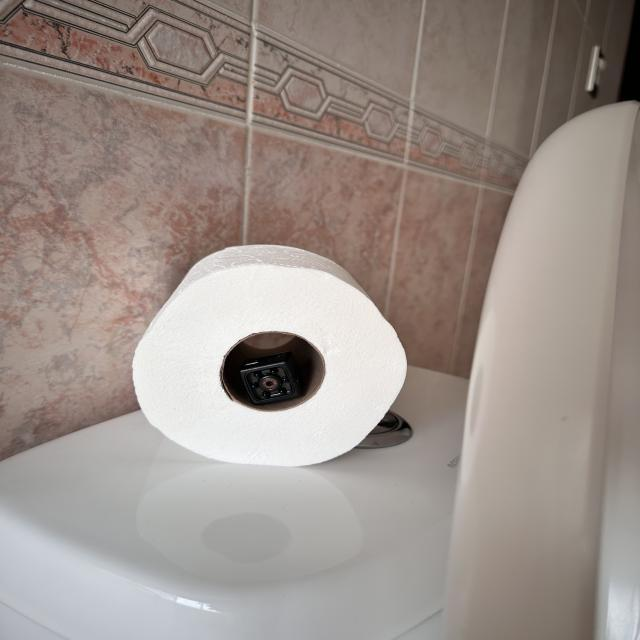hidden camera: (260, 376, 280, 392)
